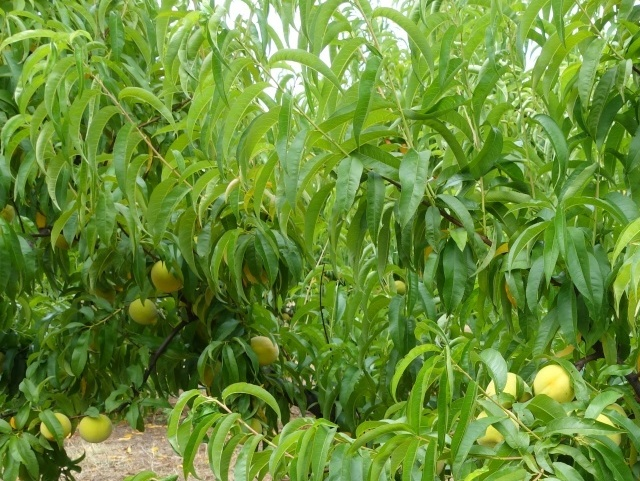peach: (470, 404, 524, 452), (480, 366, 535, 411), (527, 361, 577, 410), (147, 256, 188, 298), (243, 332, 283, 369), (35, 409, 74, 446), (76, 410, 115, 447), (124, 295, 161, 329), (239, 261, 276, 290), (48, 227, 80, 254)
